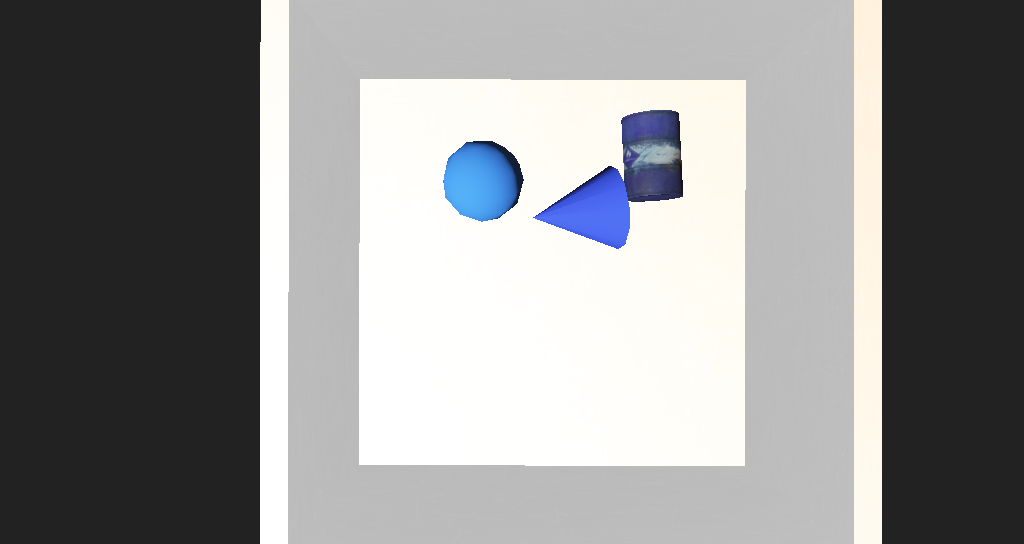cone: (552, 179, 606, 231)
cylinder: (478, 200, 559, 267)
sphere: (421, 198, 482, 241)
